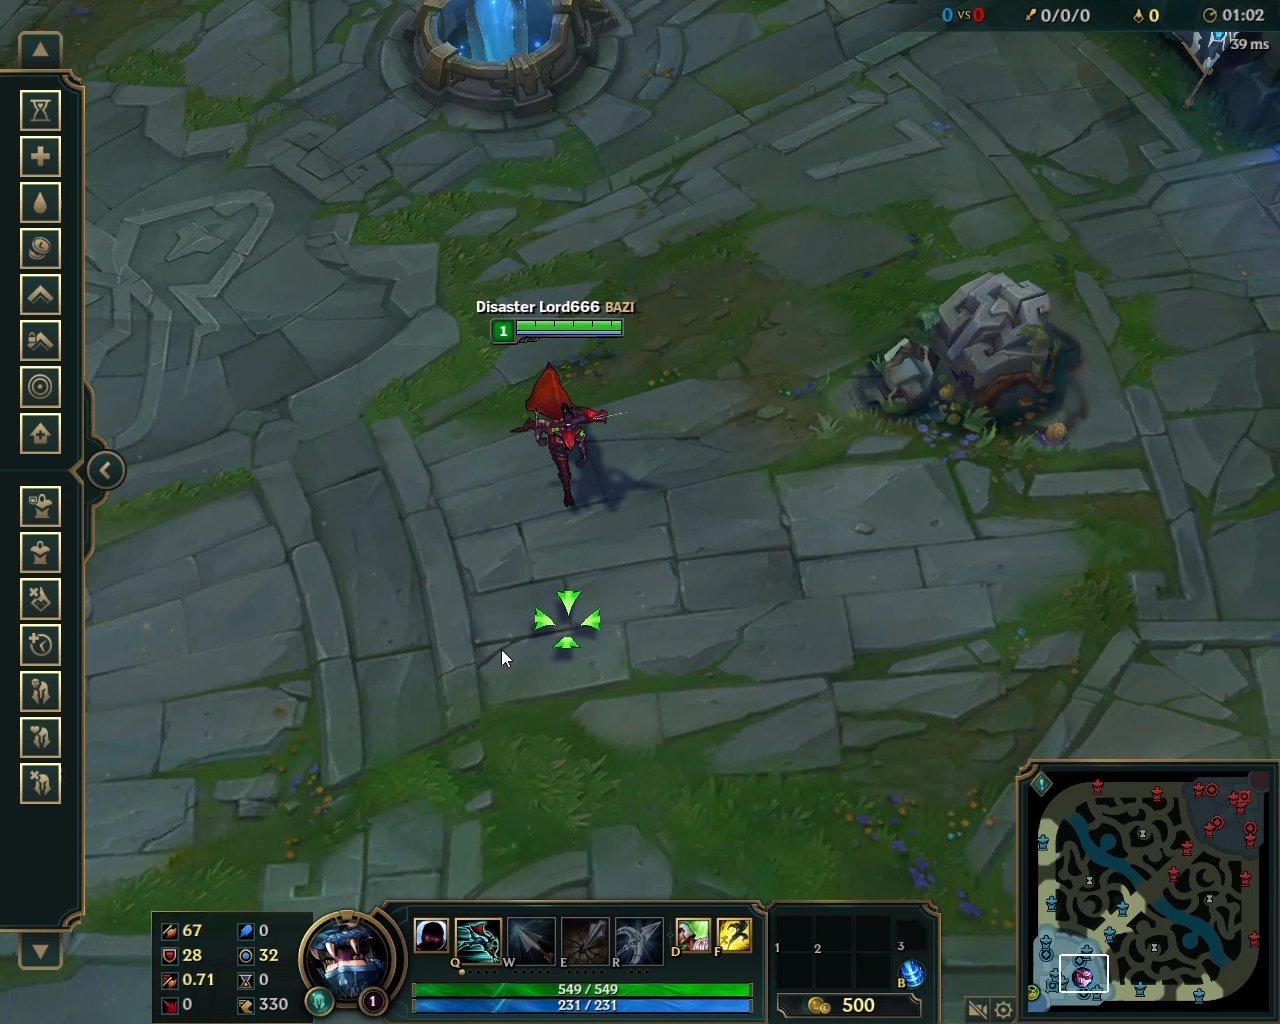Vayne: (505, 357, 632, 514)
